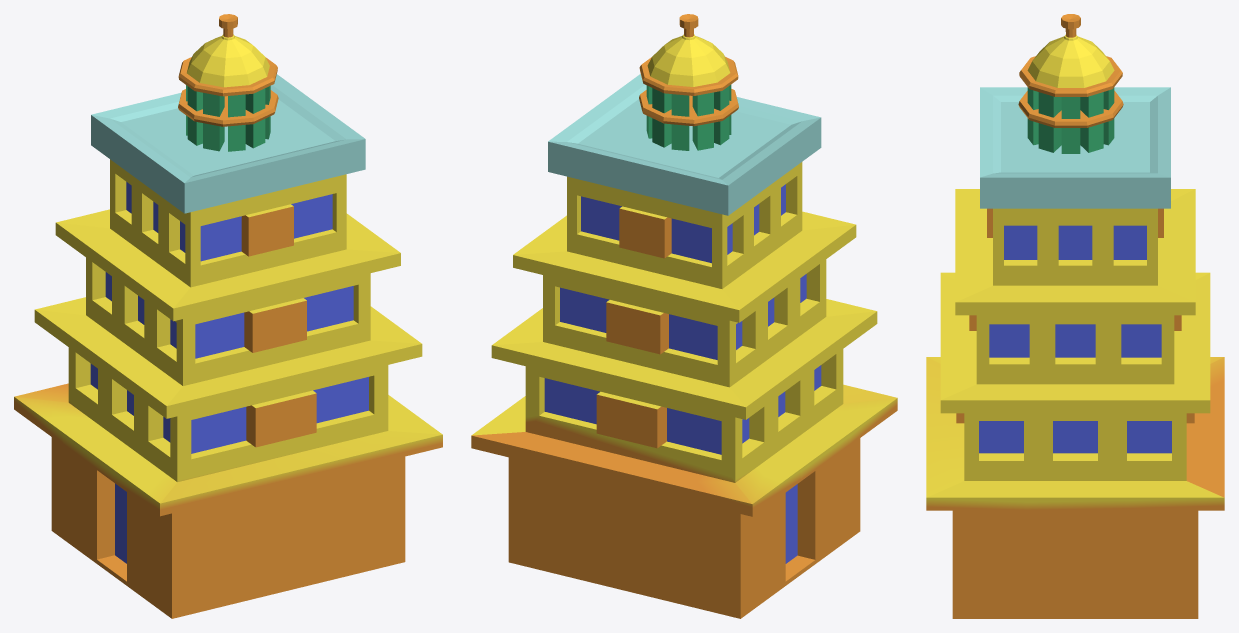
Rendered from house12.fbx.
The picture shows the model from 3 angles, left to right: view 1: azimuth 30°, elevation 25°; view 2: azimuth 150°, elevation 25°; view 3: azimuth 270°, elevation 25°; orthographic projection. The views are drawn at different scales.
Visible parts, largest first — view 1: mid_build .007_LOD0; view 2: mid_build .007_LOD0; view 3: mid_build .007_LOD0.
Part boxes in pixels (<box>): mid_build .007_LOD0: <box>14,14,442,618</box>; mid_build .007_LOD0: <box>471,14,897,618</box>; mid_build .007_LOD0: <box>926,14,1224,618</box>.
Size of what is drawn, in the model's own units: 2129 by 3818 by 1904.
